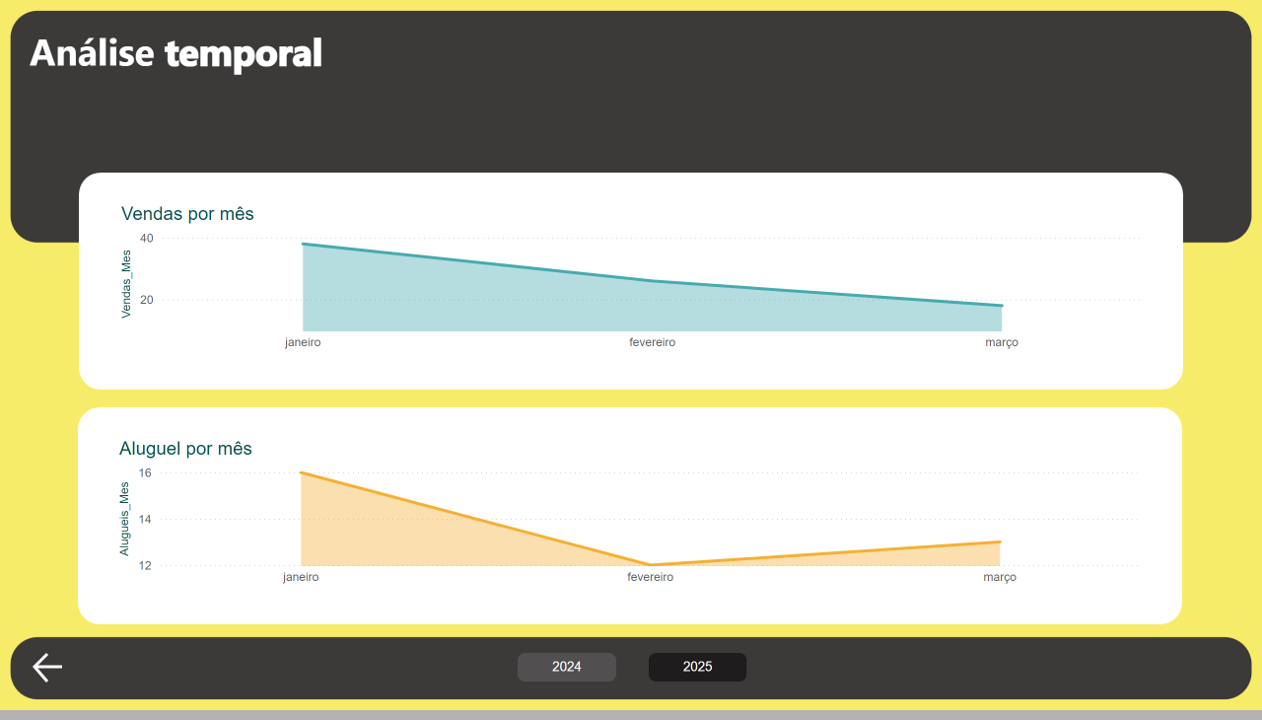

Layout of this report page (visuals, bound fields, positions):
{"tool":"powerbi","page":{"name":"Página 3","canvas":[1280,720],"ordinal":2},"visuals":[{"type":"textbox","box":[25,21,569,63],"z":0},{"type":"shape","box":[80,175,1120,220],"z":1000},{"type":"areaChart","title":"Vendas por mês","fields":{"Y":["imobiliaria_metricas.Vendas_Mes"],"Category":["imobiliaria_metricas.Data_Venda.Variation.Hierarquia de datas.Mês"]},"box":[117.5,206,1045,157],"z":2000},{"type":"shape","box":[78.5,413,1120,220],"z":3000},{"type":"areaChart","title":"Aluguel por mês","fields":{"Y":["imobiliaria_metricas.Alugueis_Mes"],"Category":["imobiliaria_metricas.Data_Aluguel.Variation.Hierarquia de datas.Mês"]},"box":[116,444,1045,157],"z":4000},{"type":"actionButton","title":"2025","box":[655,662,100,29],"z":5000},{"type":"actionButton","title":"2024","box":[525,662,100,29],"z":6000},{"type":"actionButton","box":[29,657,42,40],"z":7000},{"type":"actionButton","title":"2024 Clicado","box":[525,662,100,29],"z":10000}]}

Visuals, with their boxes in screenshot pixels (x1, y1, x2, y2), scaled from the page's 1280x720 canvas onto the 1262x720 screenshot:
textbox: 25 21 586 84
shape: 79 175 1183 395
"Vendas por mês" areaChart: 116 206 1146 363
shape: 77 413 1182 633
"Aluguel por mês" areaChart: 114 444 1145 601
"2025" actionButton: 646 662 744 691
"2024" actionButton: 518 662 616 691
actionButton: 29 657 70 697
"2024 Clicado" actionButton: 518 662 616 691
